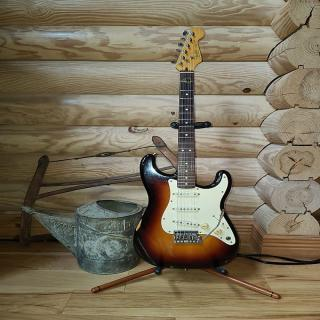Fender Stratocaster: (130, 26, 243, 273)
SSS: (169, 188, 209, 234)
